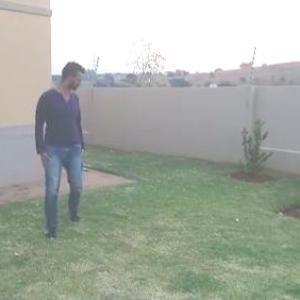follow: (30, 57, 91, 240)
